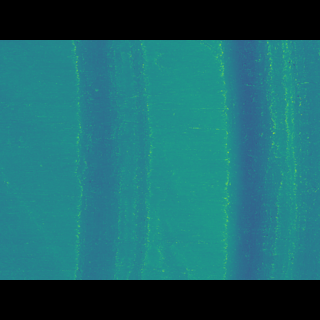Loch: (216, 68, 320, 249), (69, 70, 153, 249)
